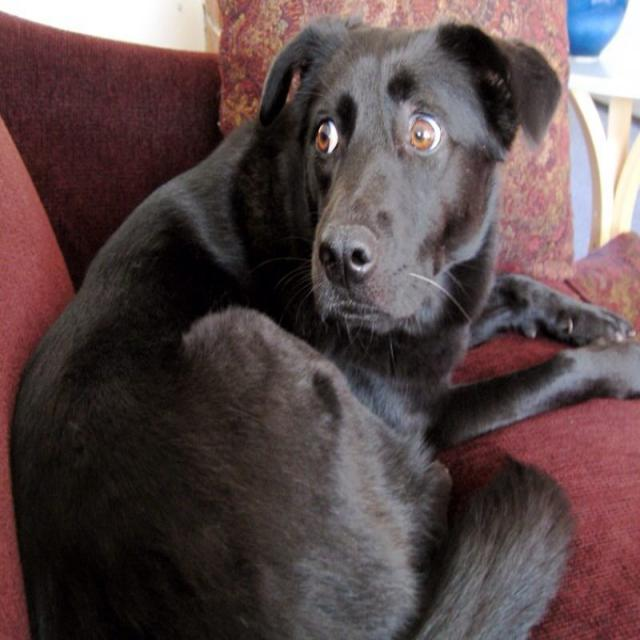eye: (404, 107, 445, 159), (310, 113, 341, 162)
